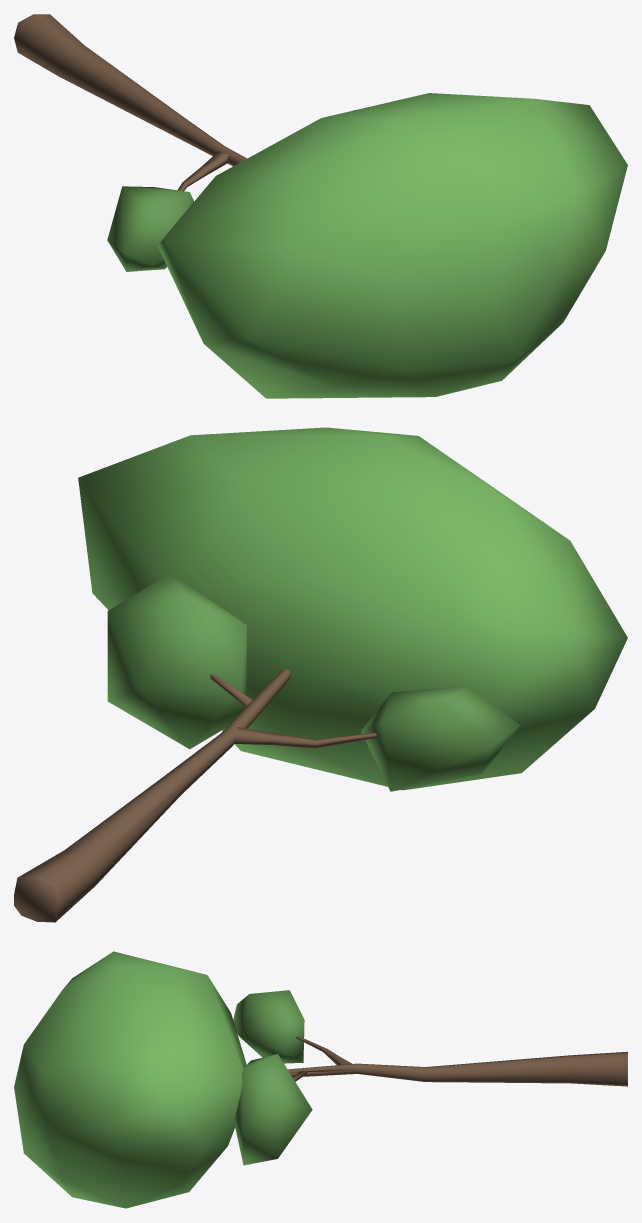
Rendered from tree.gltf.
3 views of the same model, one above another, from view 1: azimuth 30°, elevation 25°; view 2: azimuth 150°, elevation 25°; view 3: azimuth 270°, elevation 25° (orthographic). The views are drawn at different scales.
Parts seen in each view (by area): view 1: Node3, Node1, Node4; view 2: Node3, Node2, Node1, Node4; view 3: Node3, Node1, Node2, Node4.
Part boxes in pixels (x1,y1,x2,y2): Node3: (157, 93, 627, 398); Node1: (14, 14, 246, 191); Node4: (107, 186, 193, 271); Node3: (78, 427, 627, 790); Node2: (107, 573, 246, 749); Node1: (14, 669, 376, 922); Node4: (361, 685, 520, 791); Node3: (14, 951, 246, 1208); Node1: (287, 1035, 627, 1086); Node2: (235, 1054, 312, 1165); Node4: (233, 990, 304, 1063).
Size of the model in its own units: 2.37 by 1.5 by 3.83.
